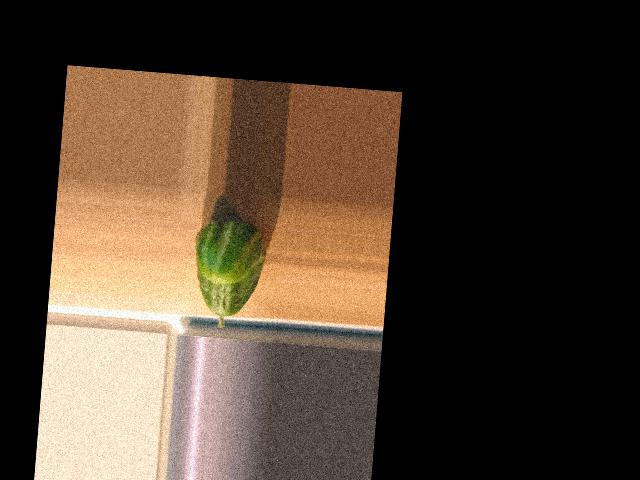cucumber: (188, 217, 267, 331)
